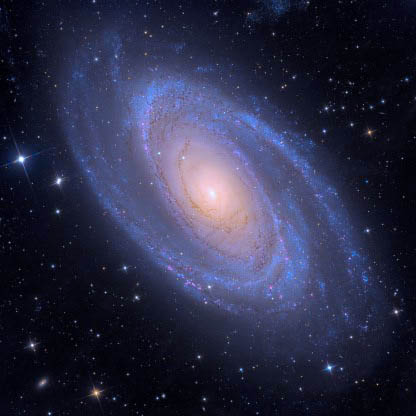Messier 81: (16, 27, 399, 374)
